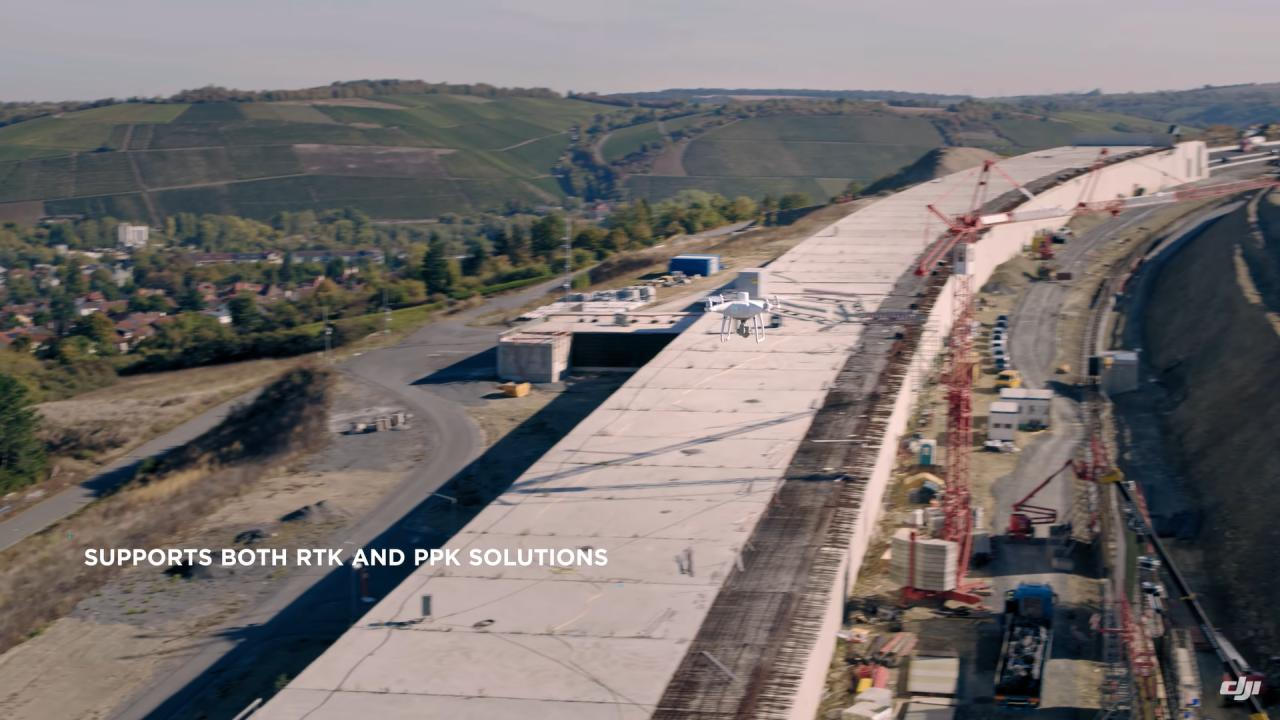Drone: (686, 282, 796, 347)
